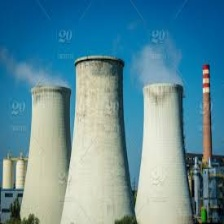smoke: (16, 65, 54, 85), (144, 55, 168, 82)
